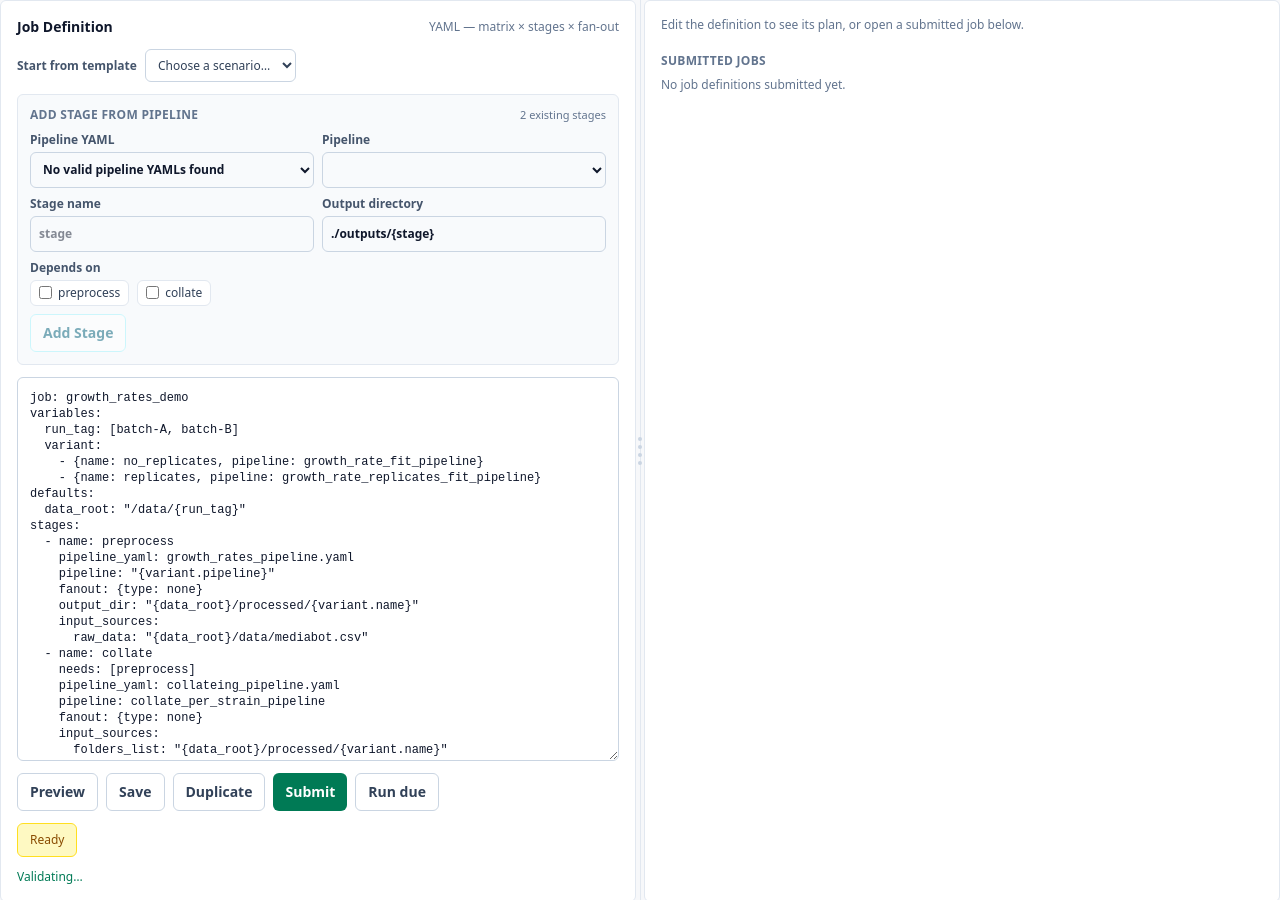
Test: JobDefinitionPanel › surfaces API errors from preview
Click the button "Preview" at (58, 792), box [17,772,98,810]
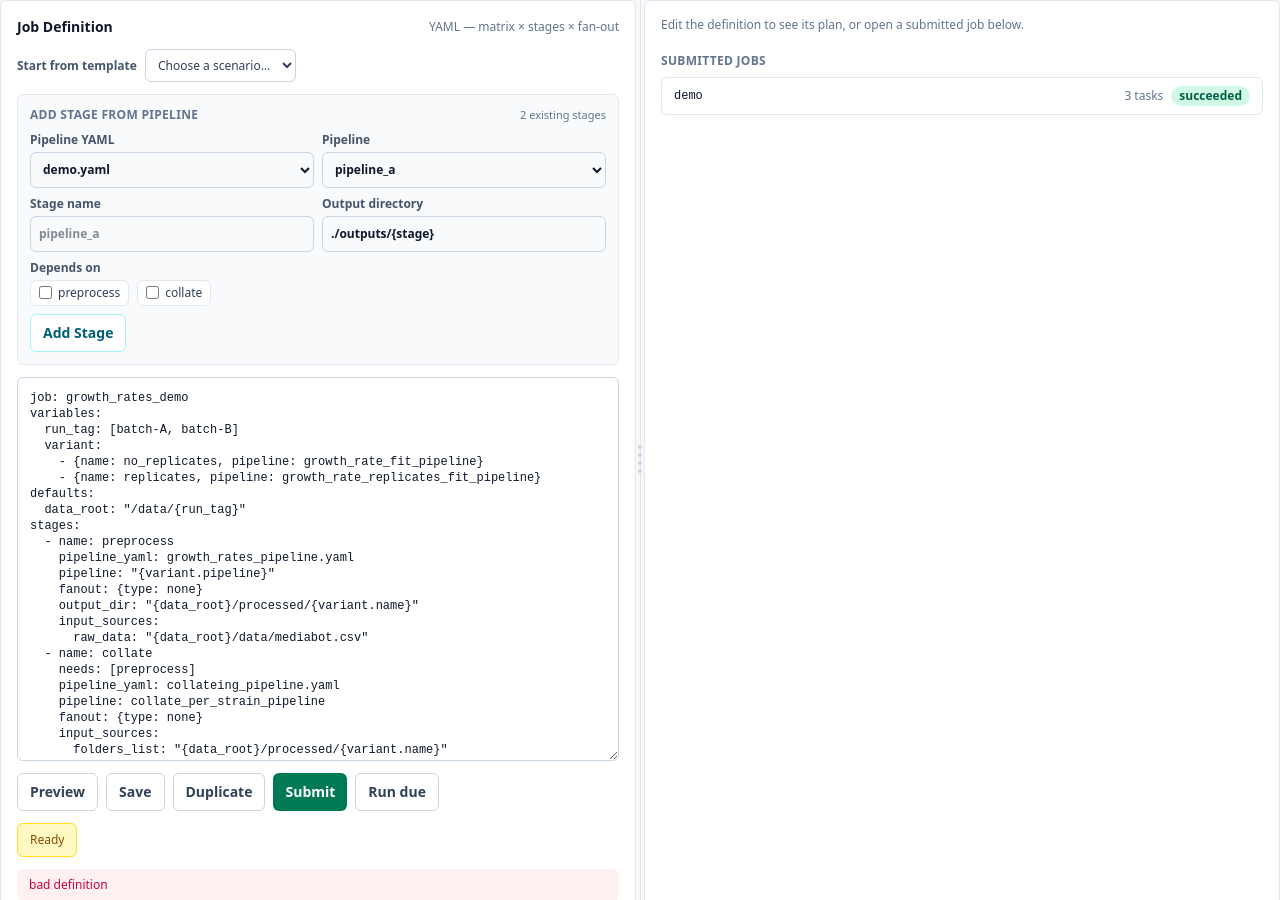
Expected: the text "bad definition" is shown, [17,868,619,899]
